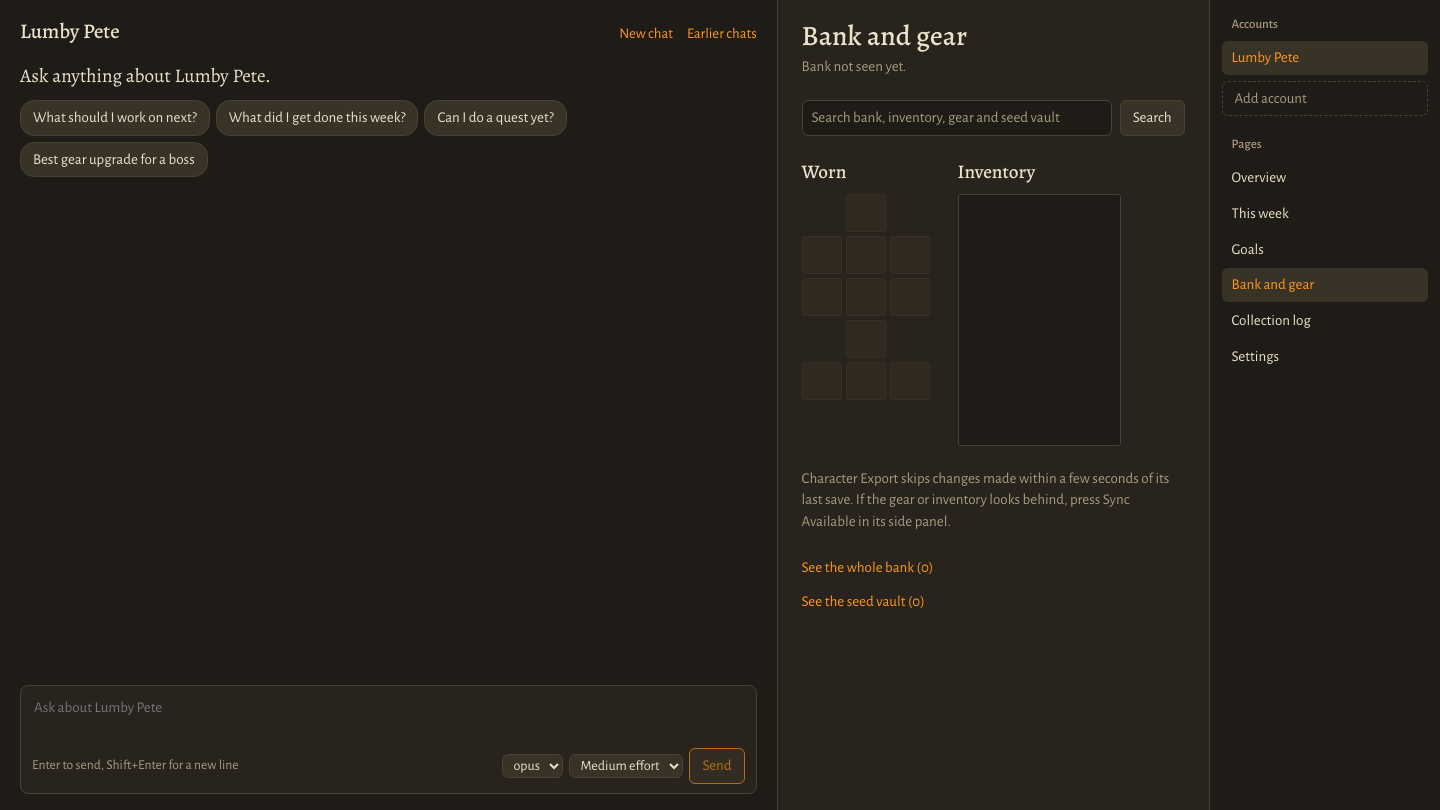
BankGear › doesn't show one search's finds under the next while it loads
The image size is (1440, 810).
Type "whip" into the search field at (957, 118), box 802,100 -> 1112,136
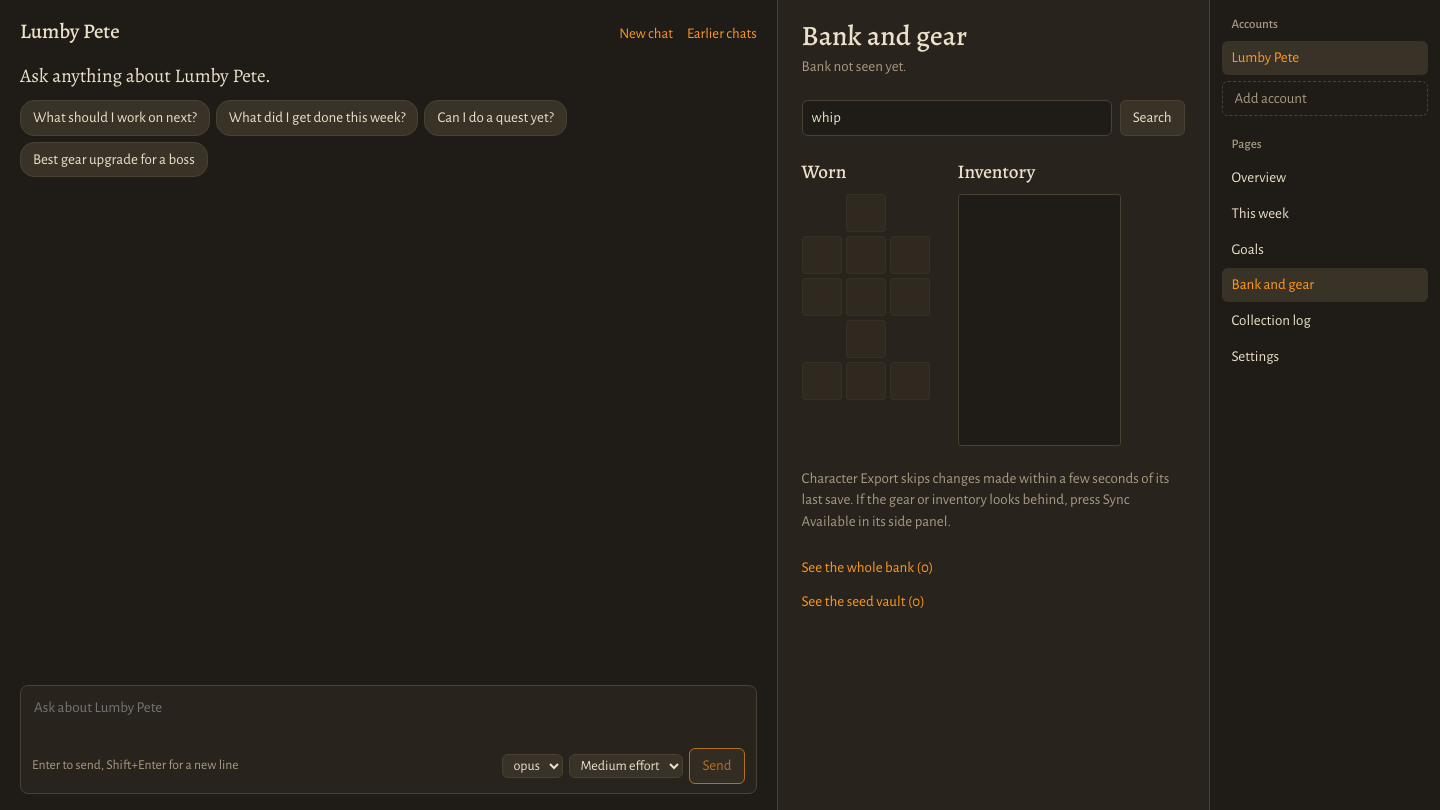
Submit the form from the search field, box 802,100 -> 1112,136
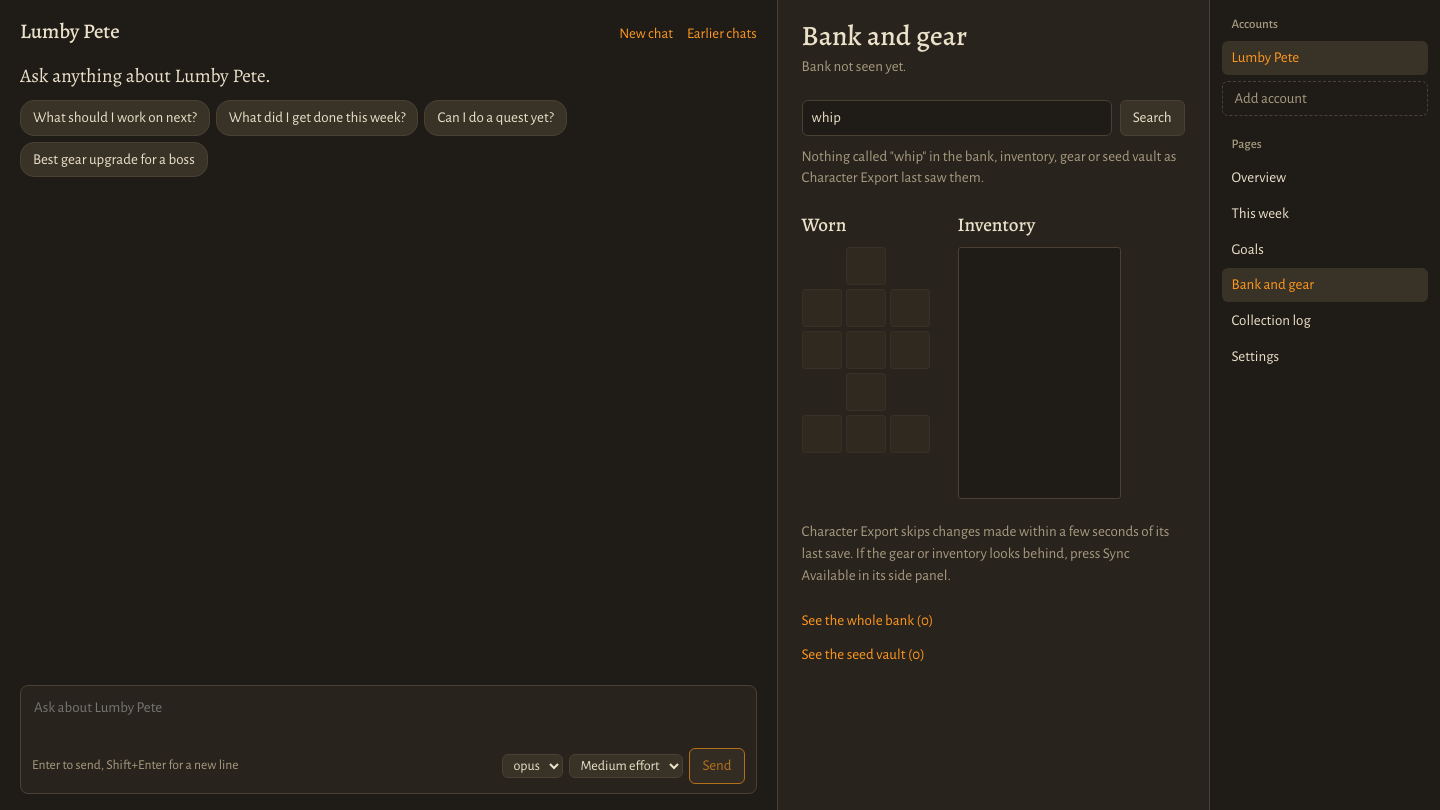
Expected: the text "Nothing called \"whip\"" is shown, 802,149 -> 1176,186
Replace the text in the search field with "shark" at (957, 118), box 802,100 -> 1112,136
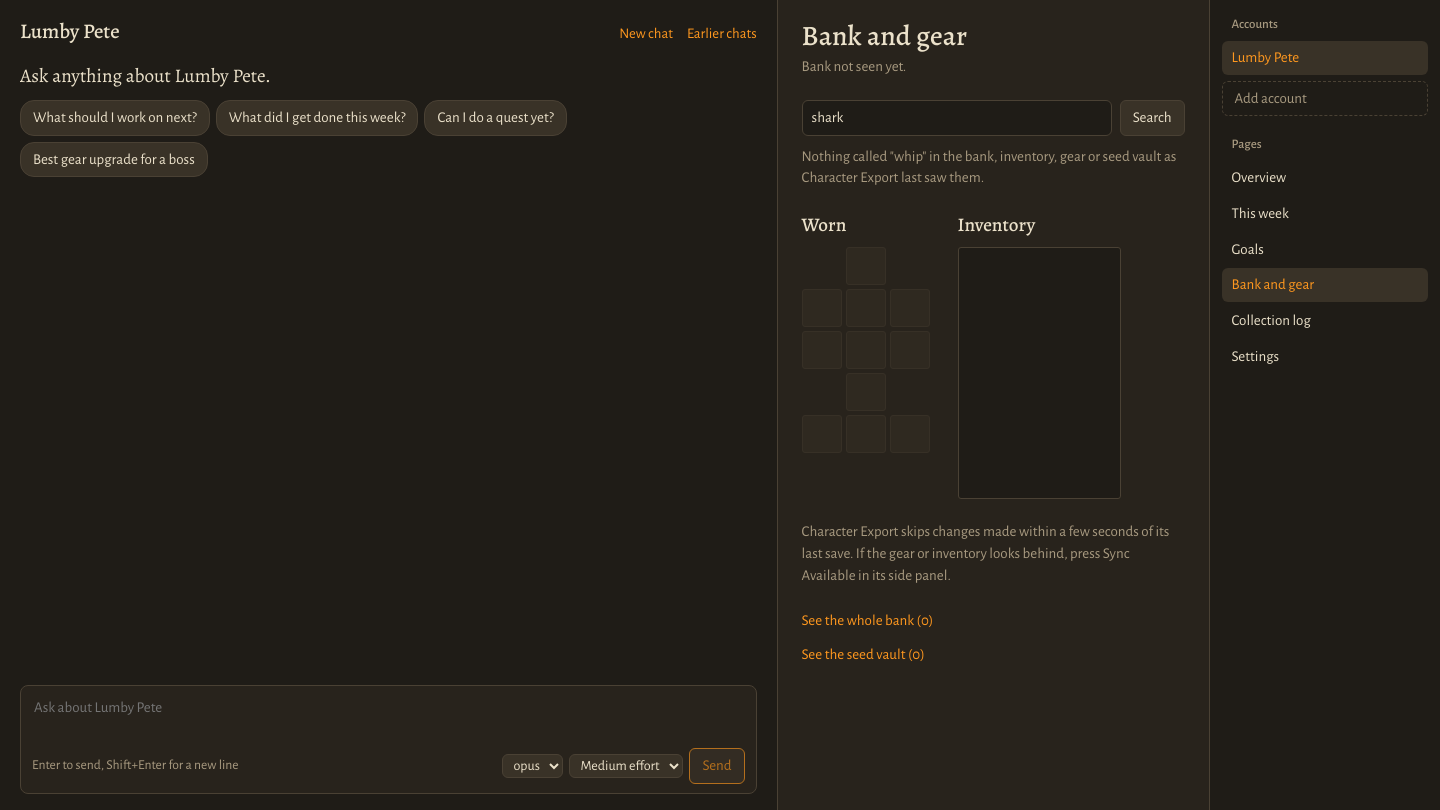
Submit the form from the search field, box 802,100 -> 1112,136
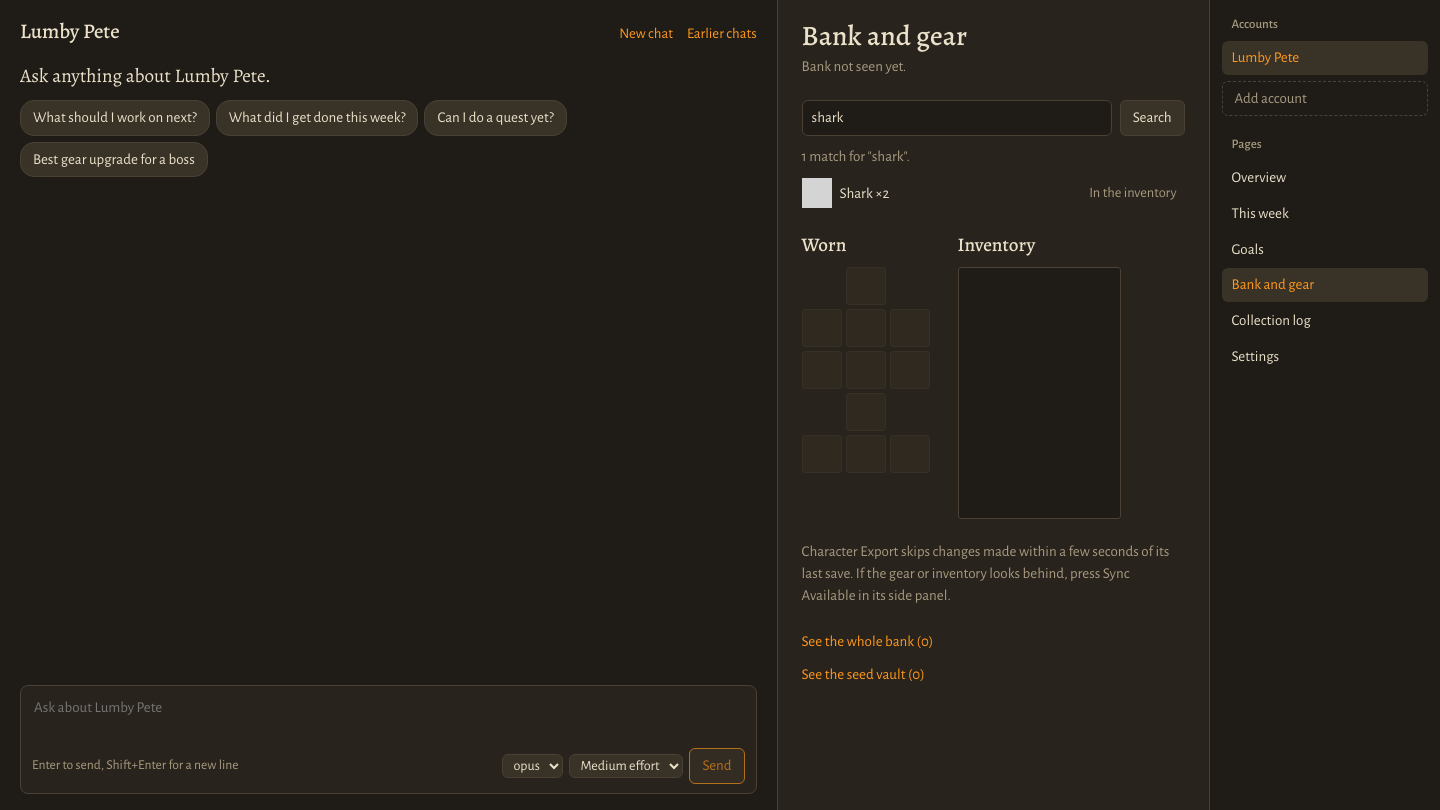
Expected: the text "Nothing called" is gone
Expected: the list item "Shark ×2 In the inventory" is shown, 802,177 -> 1185,209
